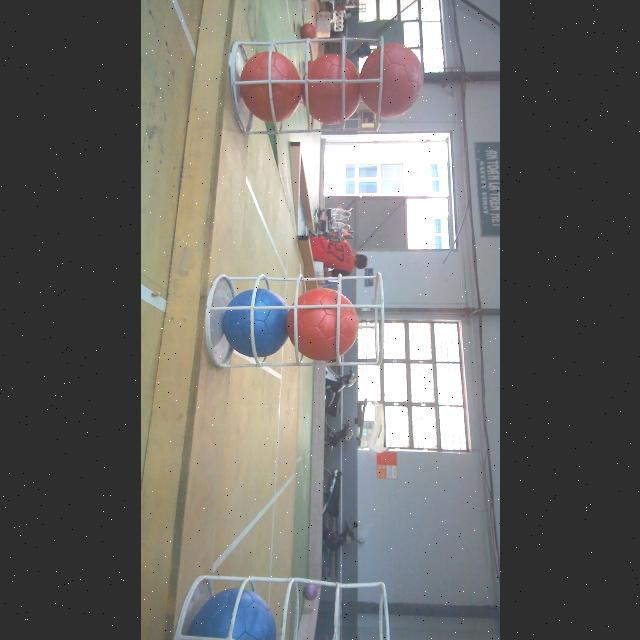B: (180, 590, 276, 640), (220, 290, 288, 360)
R: (287, 289, 358, 361), (358, 43, 424, 119), (236, 50, 302, 124), (302, 51, 358, 125)
